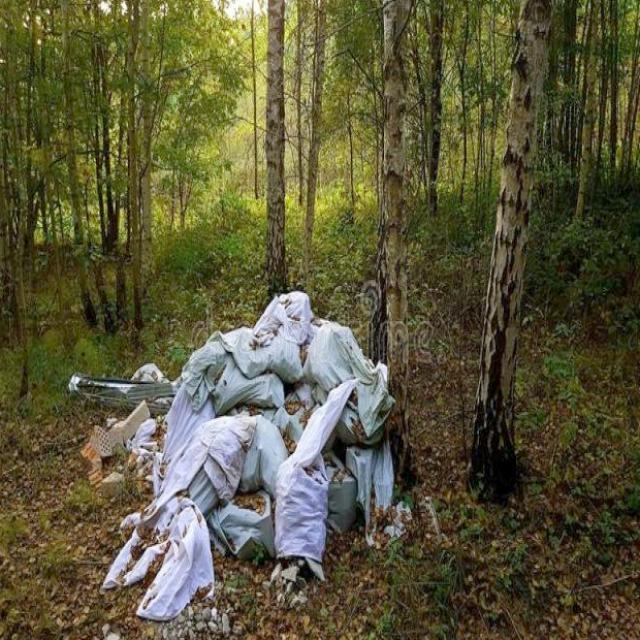garbage: (63, 288, 420, 628)
